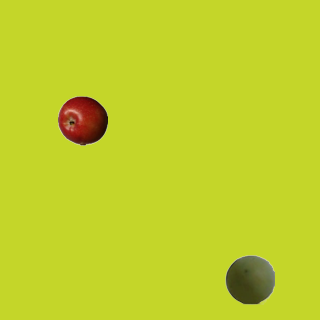Apple Braeburn: (57, 95, 107, 145)
Grape White 4: (224, 254, 274, 304)
